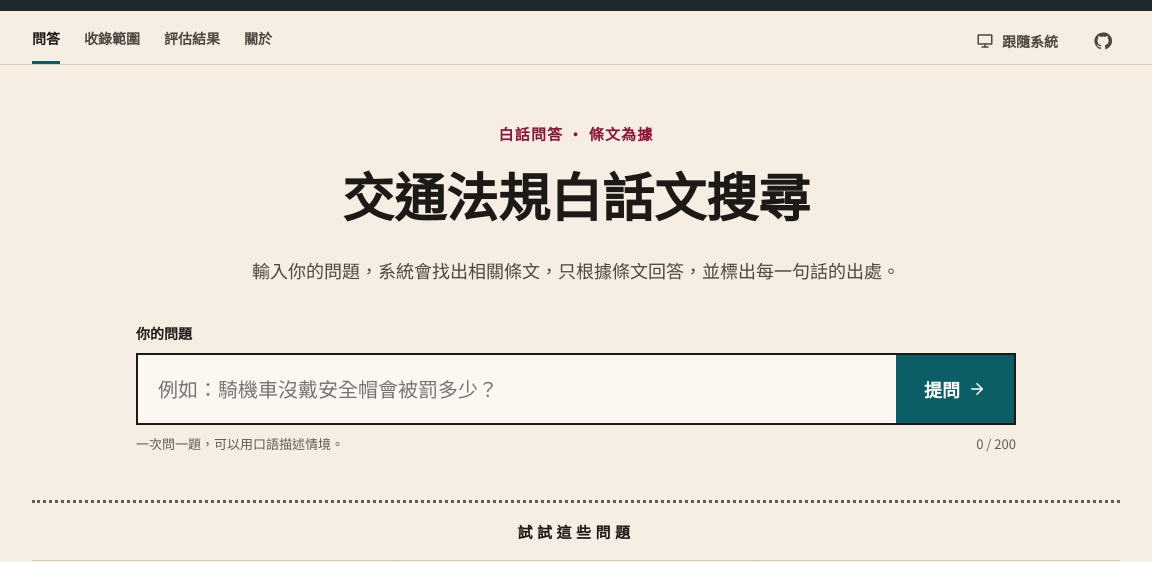
Test case: 為什麼不回答 › shows the refusal branch: stops at the relevance check, the rest skipped, with the score comparison
The width and height of the screenshot is (1152, 562).
In the text box labelled "你的問題": (517, 389) x1=138 y1=355 x2=896 y2=423, type "紅燈右轉會被罰多少錢？"
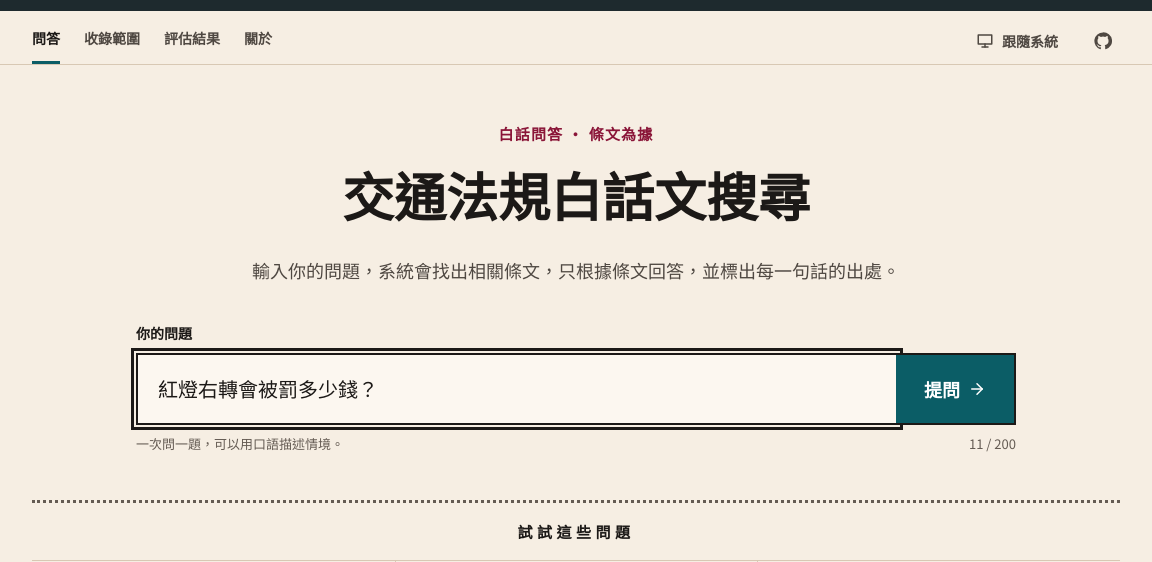
Click the button "提問": click(955, 389) x1=896 y1=355 x2=1014 y2=423
(page scrolled)
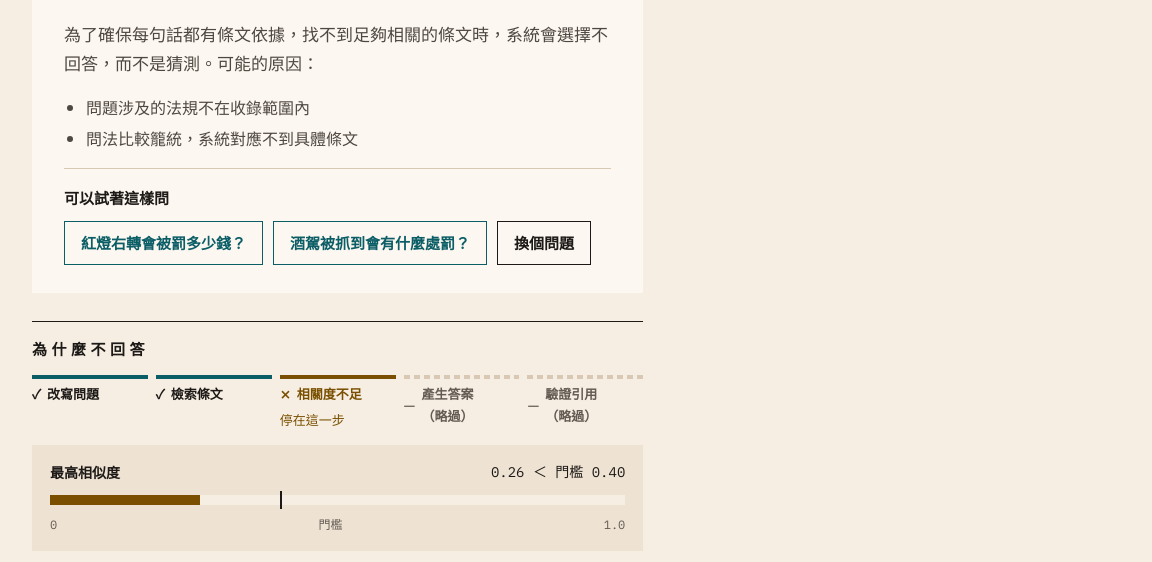
Expected: the list item "⨯ 相關度不足 停在這一步" is shown, x1=280 y1=375 x2=396 y2=431
Expected: the list item "— 產生答案（略過）" is shown, x1=404 y1=375 x2=520 y2=431
Expected: the list item "— 驗證引用（略過）" is shown, x1=528 y1=375 x2=643 y2=431
